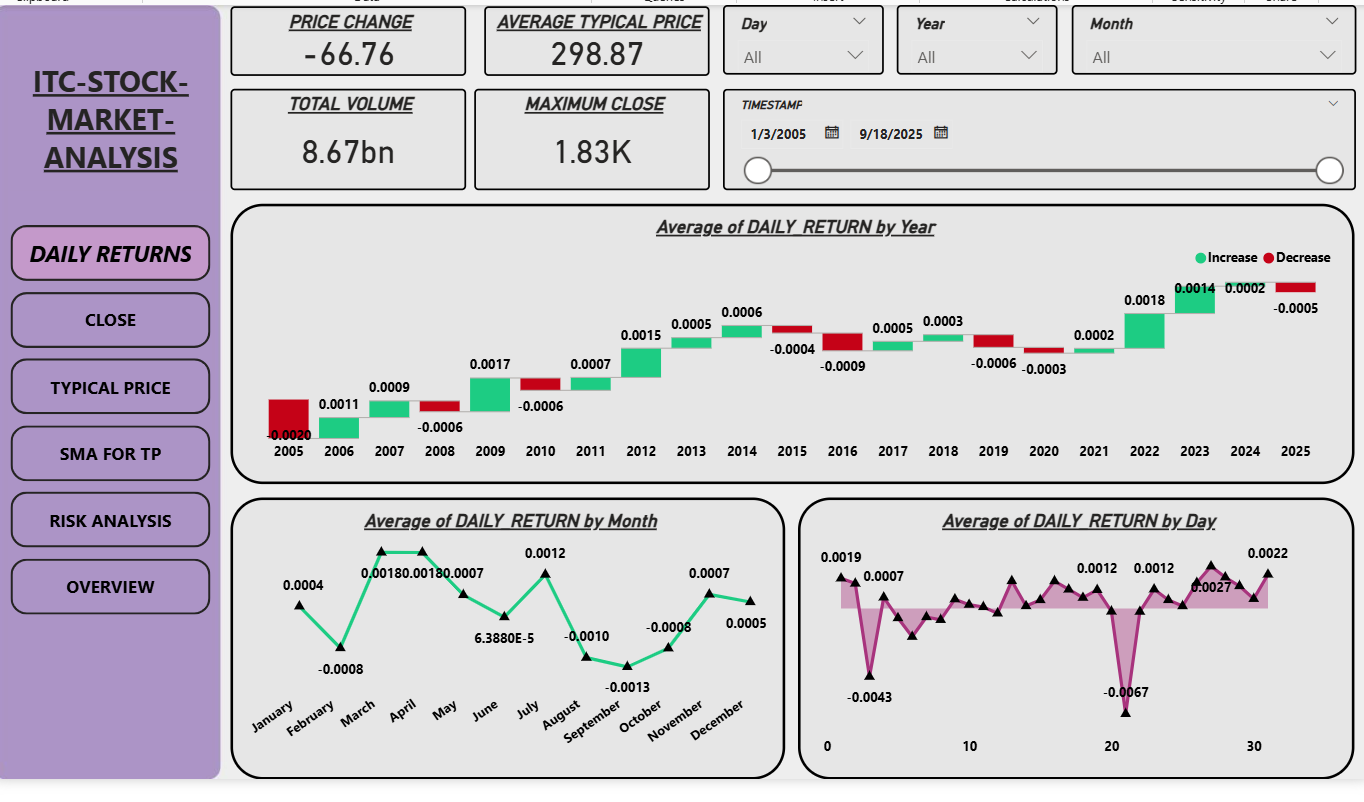

Layout of this report page (visuals, bound fields, positions):
{"tool":"powerbi","page":{"name":"DAILY RETURNS","canvas":[1280,720],"ordinal":0},"visuals":[{"type":"waterfallChart","fields":{"Category":["FINAL_ITC_STOCK_UPDATED_TABLE.TIMESTAMP.Variation.Date Hierarchy.Year"],"Y":["Avg(FINAL_ITC_STOCK_UPDATED_TABLE.DAILY_RETURN)"]},"box":[220.9,185.2,1045.6,260.7],"z":0},{"type":"lineChart","fields":{"Category":["FINAL_ITC_STOCK_UPDATED_TABLE.TIMESTAMP.Variation.Date Hierarchy.Month"],"Y":["Avg(FINAL_ITC_STOCK_UPDATED_TABLE.DAILY_RETURN)"]},"box":[220.9,458.3,516,262.1],"z":1000},{"type":"areaChart","fields":{"Category":["FINAL_ITC_STOCK_UPDATED_TABLE.TIMESTAMP.Variation.Date Hierarchy.Day"],"Y":["Avg(FINAL_ITC_STOCK_UPDATED_TABLE.DAILY_RETURN)"]},"box":[749.2,458.3,517.3,262.1],"z":2000},{"type":"textbox","box":[16.5,48,186.6,124.9],"z":3000},{"type":"pageNavigator","box":[16.5,204.5,186.6,362],"z":4000},{"type":"card","title":"TOTAL VOLUME","fields":{"Values":["Sum(FINAL_ITC_STOCK_UPDATED_TABLE.VOLUME)"]},"box":[220.9,78.2,219.6,94.7],"z":5000},{"type":"card","title":"AVERAGE TYPICAL PRICE","fields":{"Values":["Avg(FINAL_ITC_STOCK_UPDATED_TABLE.TYPICAL_PRICE)"]},"box":[456.9,1.4,209.9,64.5],"z":6000},{"type":"slicer","fields":{"Values":["FINAL_ITC_STOCK_UPDATED_TABLE.TIMESTAMP.Variation.Date Hierarchy.Year"]},"box":[841.2,0,149.6,64.5],"z":7000},{"type":"slicer","fields":{"Values":["FINAL_ITC_STOCK_UPDATED_TABLE.TIMESTAMP.Variation.Date Hierarchy.Month"]},"box":[1003.1,0,264.8,64.5],"z":8000},{"type":"slicer","fields":{"Values":["FINAL_ITC_STOCK_UPDATED_TABLE.TIMESTAMP.Variation.Date Hierarchy.Day"]},"box":[679.2,0,149.6,64.5],"z":9000},{"type":"card","title":"MAXIMUM CLOSE","fields":{"Values":["Max(FINAL_ITC_STOCK_UPDATED_TABLE.CLOSE)"]},"box":[447.3,78.2,219.6,94.7],"z":10000},{"type":"card","title":"PRICE CHANGE","fields":{"Values":["FINAL_ITC_STOCK_UPDATED_TABLE.Price_Change%"]},"box":[220.9,1.4,219.6,64.5],"z":11000},{"type":"slicer","fields":{"Values":["FINAL_ITC_STOCK_UPDATED_TABLE.TIMESTAMP"]},"box":[679.2,78.2,588.7,94.7],"z":12000}]}

Visuals, with their boxes on the page's 1280x720 design canvas (x1, y1, x2, y2). These are canvas units, not pixel positions in the 1364x802 screenshot, which may show the page scaled, cropped or inside an application window:
waterfallChart - FINAL_ITC_STOCK_UPDATED_TABLE.TIMESTAMP.Variation.Date Hierarchy.Year x Avg(FINAL_ITC_STOCK_UPDATED_TABLE.DAILY_RETURN): pyautogui.locateOnScreen(221, 185, 1266, 446)
lineChart - FINAL_ITC_STOCK_UPDATED_TABLE.TIMESTAMP.Variation.Date Hierarchy.Month x Avg(FINAL_ITC_STOCK_UPDATED_TABLE.DAILY_RETURN): pyautogui.locateOnScreen(221, 458, 737, 720)
areaChart - FINAL_ITC_STOCK_UPDATED_TABLE.TIMESTAMP.Variation.Date Hierarchy.Day x Avg(FINAL_ITC_STOCK_UPDATED_TABLE.DAILY_RETURN): pyautogui.locateOnScreen(749, 458, 1266, 720)
textbox: pyautogui.locateOnScreen(16, 48, 203, 173)
pageNavigator: pyautogui.locateOnScreen(16, 204, 203, 566)
"TOTAL VOLUME" card: pyautogui.locateOnScreen(221, 78, 440, 173)
"AVERAGE TYPICAL PRICE" card: pyautogui.locateOnScreen(457, 1, 667, 66)
slicer - FINAL_ITC_STOCK_UPDATED_TABLE.TIMESTAMP.Variation.Date Hierarchy.Year: pyautogui.locateOnScreen(841, 0, 991, 64)
slicer - FINAL_ITC_STOCK_UPDATED_TABLE.TIMESTAMP.Variation.Date Hierarchy.Month: pyautogui.locateOnScreen(1003, 0, 1268, 64)
slicer - FINAL_ITC_STOCK_UPDATED_TABLE.TIMESTAMP.Variation.Date Hierarchy.Day: pyautogui.locateOnScreen(679, 0, 829, 64)
"MAXIMUM CLOSE" card: pyautogui.locateOnScreen(447, 78, 667, 173)
"PRICE CHANGE" card: pyautogui.locateOnScreen(221, 1, 440, 66)
slicer - FINAL_ITC_STOCK_UPDATED_TABLE.TIMESTAMP: pyautogui.locateOnScreen(679, 78, 1268, 173)
